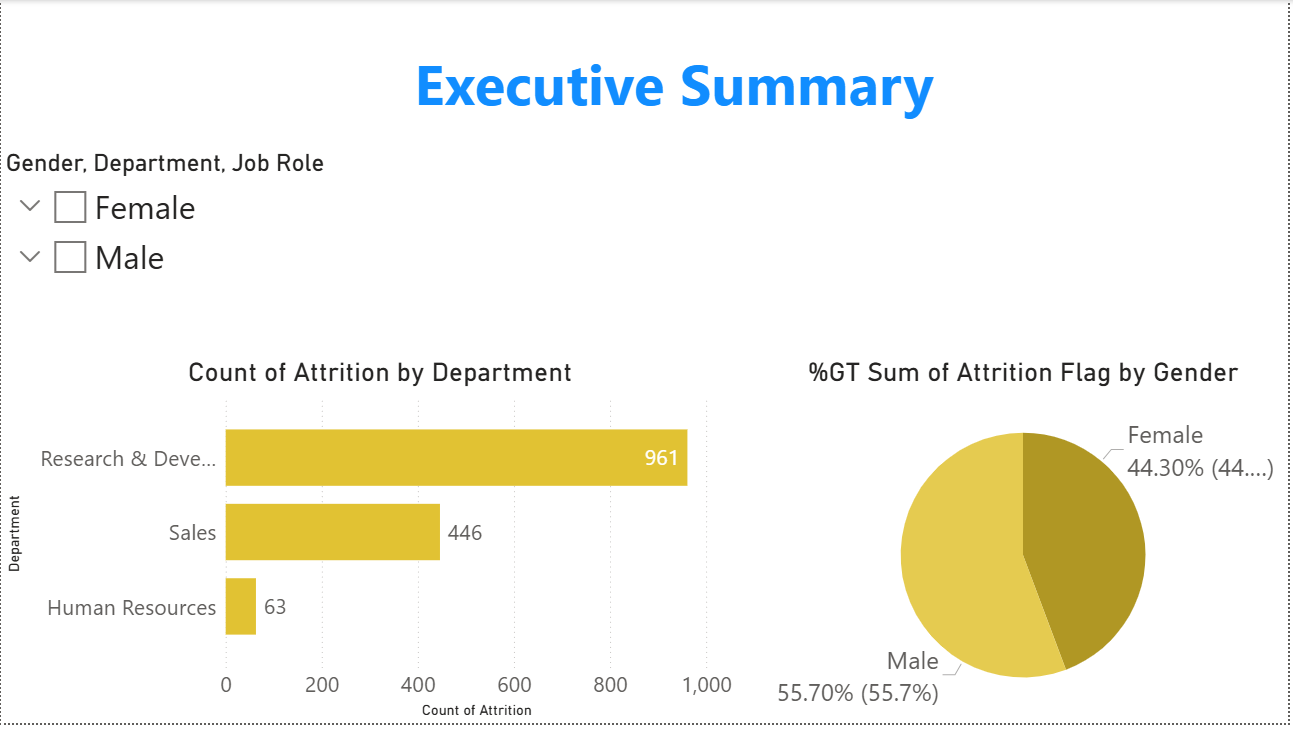

Layout of this report page (visuals, bound fields, positions):
{"tool":"powerbi","page":{"name":"Executive summary","canvas":[1280,720],"ordinal":0},"visuals":[{"type":"pieChart","title":"Attrition % by Gender","fields":{"Series":["WA_Fn-UseC_-HR-Employee-Attriti.Gender"],"Y":["Sum(WA_Fn-UseC_-HR-Employee-Attriti.Attrition Flag)"]},"box":[754.9,354.1,524.4,365.8],"z":0},{"type":"barChart","fields":{"Y":["CountNonNull(WA_Fn-UseC_-HR-Employee-Attriti.Attrition)"],"Category":["WA_Fn-UseC_-HR-Employee-Attriti.Department"]},"box":[0,354.1,754.9,365.8],"z":1000},{"type":"slicer","title":"Gender, Department, Job Role","fields":{"Values":["WA_Fn-UseC_-HR-Employee-Attriti.Gender","WA_Fn-UseC_-HR-Employee-Attriti.Department","WA_Fn-UseC_-HR-Employee-Attriti.Job Role"]},"box":[0,148.6,377.5,205.4],"z":2000},{"type":"textbox","box":[324,38.4,693.1,153.7],"z":3000}]}

Visuals, with their boxes in screenshot pixels (x1, y1, x2, y2), scaled from the page's 1280x720 canvas onto the 1293x729 screenshot:
"Attrition % by Gender" pieChart: detection(763, 359, 1292, 728)
barChart - CountNonNull(WA_Fn-UseC_-HR-Employee-Attriti.Attrition) x WA_Fn-UseC_-HR-Employee-Attriti.Department: detection(0, 359, 763, 728)
"Gender, Department, Job Role" slicer: detection(0, 150, 381, 358)
textbox: detection(327, 39, 1027, 195)
